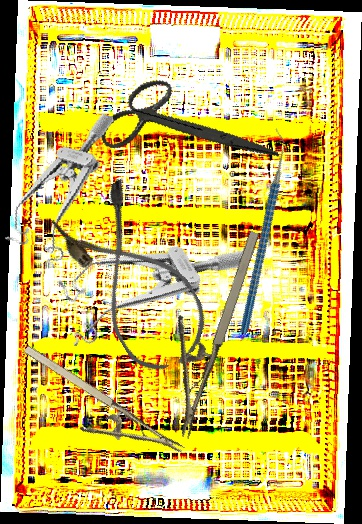Cannula: (48, 176, 221, 381)
Chopper: (176, 127, 346, 335)
Iris Scissors: (89, 50, 280, 207)
Needle Holder: (138, 217, 267, 440), (6, 340, 185, 485)
Speculum: (40, 190, 252, 363), (1, 97, 115, 273)
